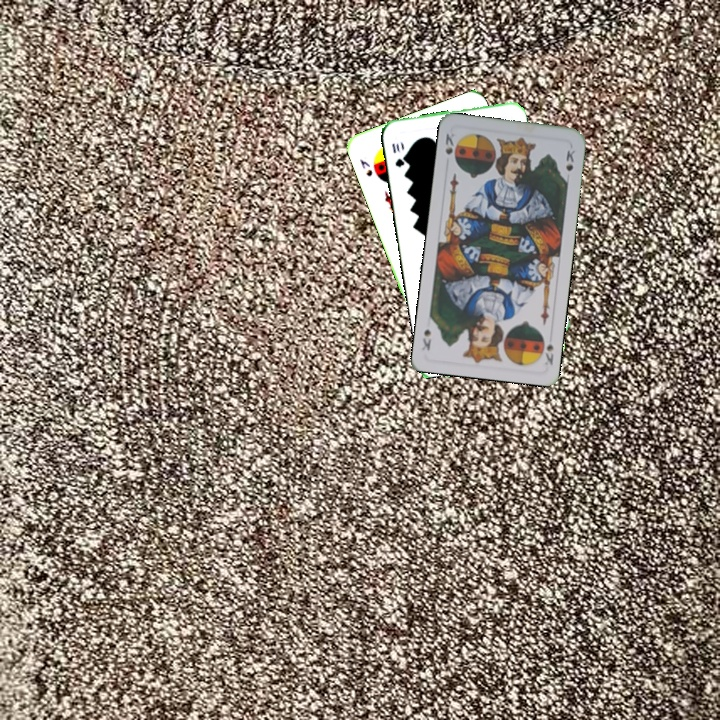G10: (388, 139, 407, 170)
SK: (536, 331, 556, 368), (356, 155, 375, 179), (441, 129, 457, 157)
